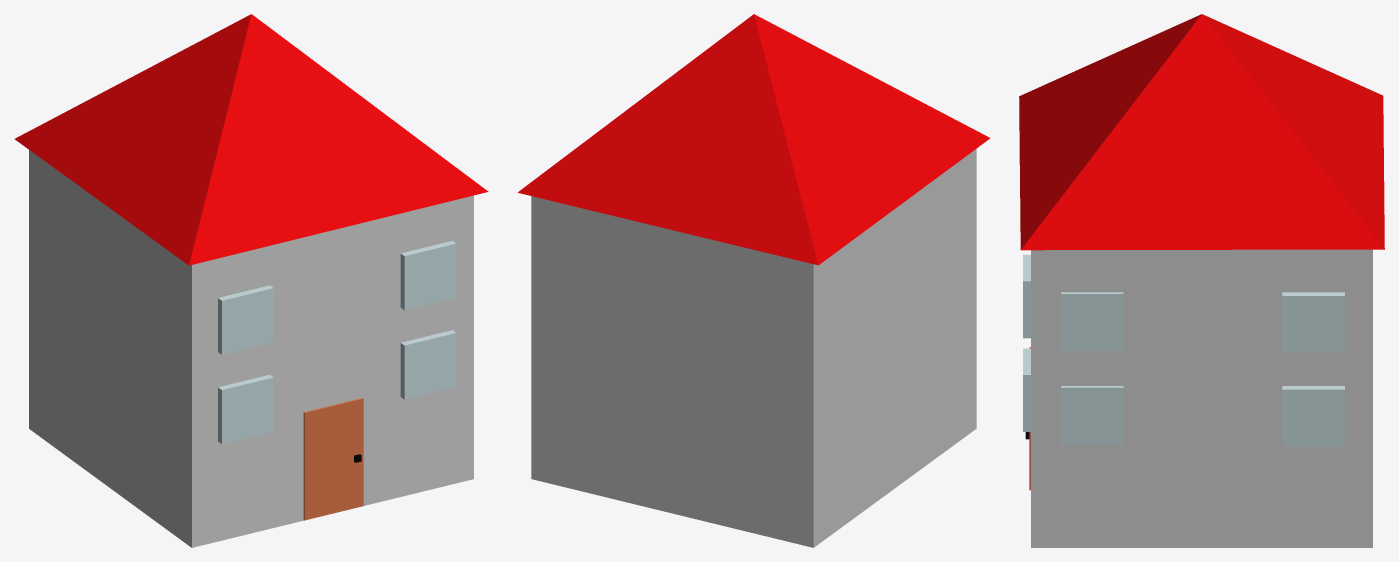
Rendered from Casa 7 Esquina.fbx.
3 renders of one model, left to right at view 1: azimuth 30°, elevation 25°; view 2: azimuth 150°, elevation 25°; view 3: azimuth 270°, elevation 25°, orthographic. The views are drawn at different scales.
Parts seen in each view (by area): view 1: Cube, Cone, Cube.001, Cube.005, Cube.003, Cube.006, Cube.004; view 2: Cube, Cone; view 3: Cube, Cone, Cube.008, Cube.010, Cube.007, Cube.009, Cube.005, Cube.003.
Boxes of the visible parts, x1=… form: Cube: x1=29, y1=150, x2=473, y2=547; Cone: x1=14, y1=14, x2=488, y2=265; Cube.001: x1=303, y1=398, x2=363, y2=520; Cube.005: x1=400, y1=241, x2=456, y2=310; Cube.003: x1=400, y1=330, x2=456, y2=399; Cube.006: x1=218, y1=285, x2=273, y2=354; Cube.004: x1=218, y1=374, x2=273, y2=444; Cube: x1=531, y1=149, x2=976, y2=547; Cone: x1=518, y1=14, x2=990, y2=265; Cube: x1=1031, y1=249, x2=1372, y2=547; Cone: x1=1019, y1=14, x2=1384, y2=250; Cube.008: x1=1282, y1=386, x2=1344, y2=446; Cube.010: x1=1282, y1=292, x2=1344, y2=352; Cube.007: x1=1061, y1=386, x2=1123, y2=444; Cube.009: x1=1061, y1=292, x2=1123, y2=350; Cube.005: x1=1023, y1=254, x2=1030, y2=338; Cube.003: x1=1023, y1=348, x2=1030, y2=431.
Bounding box in the file's own units: 134 × 186 × 134.
